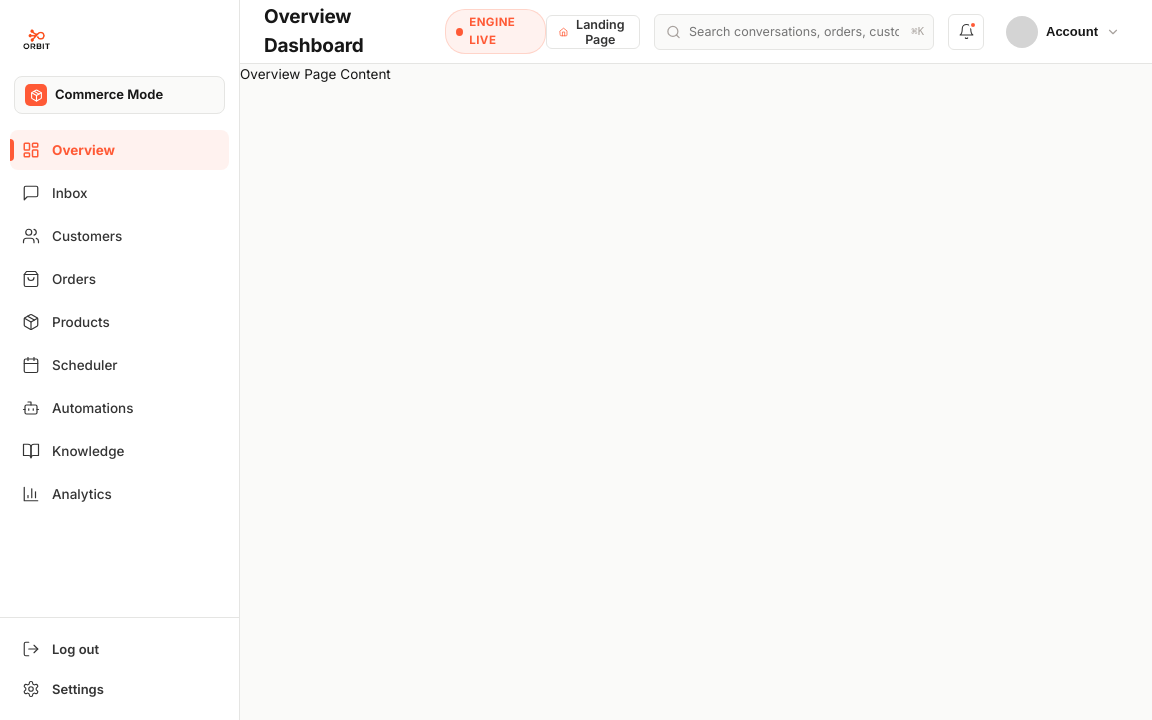
Test case: App Shell — Sidebar & TopBar › Sidebar › navigates to pages on click and executes logout flow
This screenshot has width=1152, height=720.
// Click customers
What coordinates should you click on to do the following:
click the button "Customers"
I would click on:
 (120, 236)
Its box is [10,216,229,256].
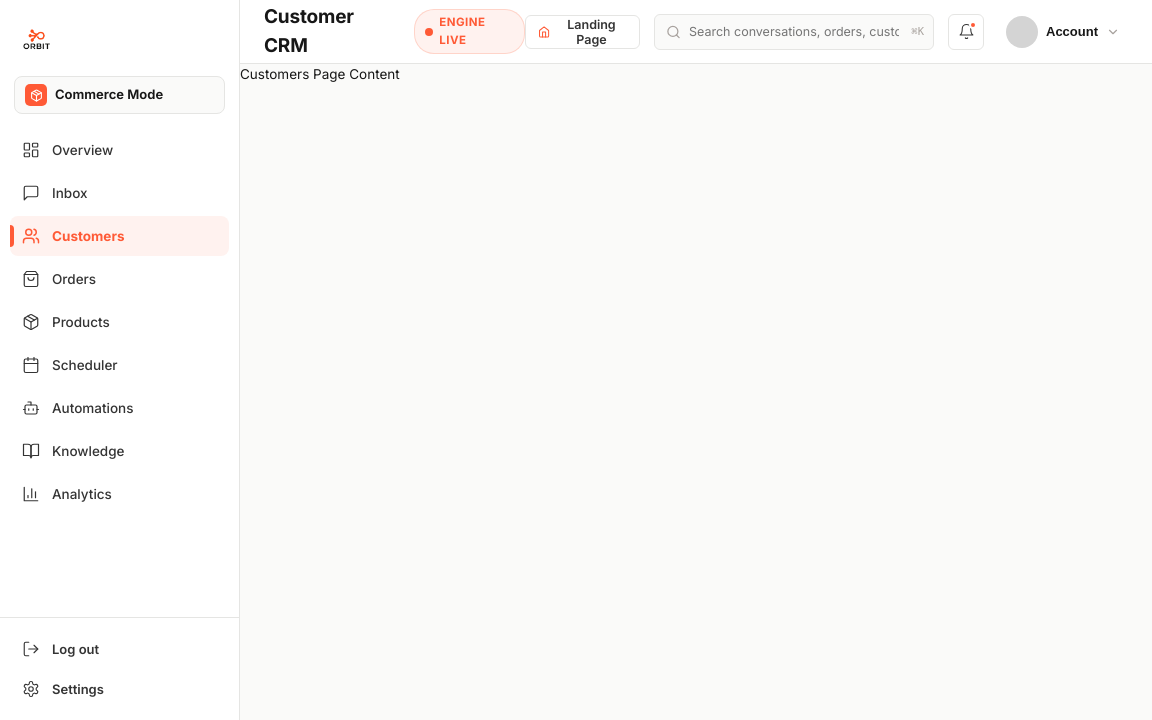
Expected: the text "Customers Page Content" is shown, [240,66,400,82]
// Click logout
What coordinates should you click on to do the following:
click the button "Log out"
I would click on:
 (120, 649)
Its box is [10,630,229,668].
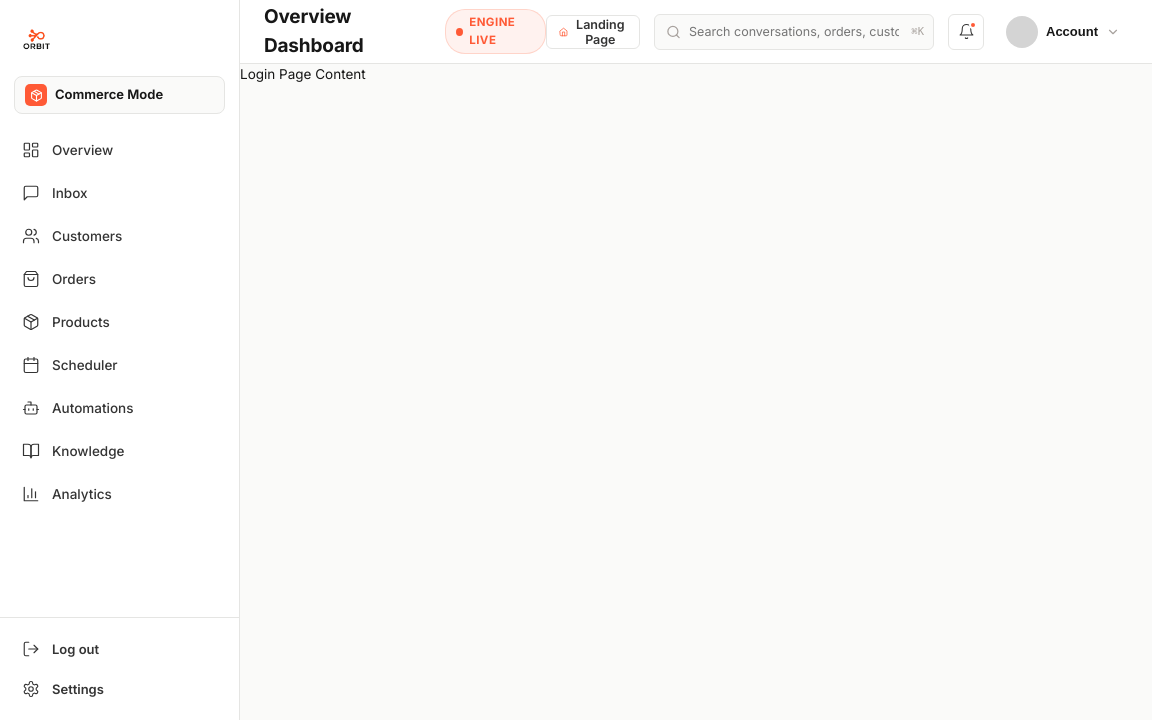
Expected: the text "Login Page Content" is shown, [240,66,366,82]
